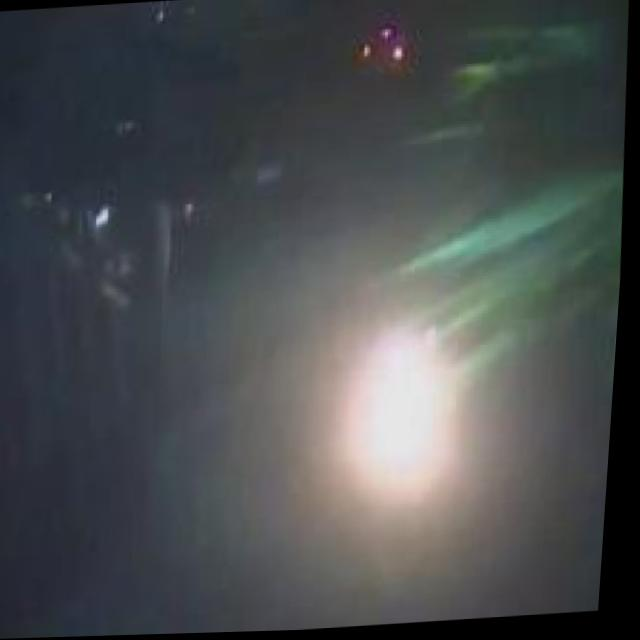fire: (336, 291, 486, 538)
